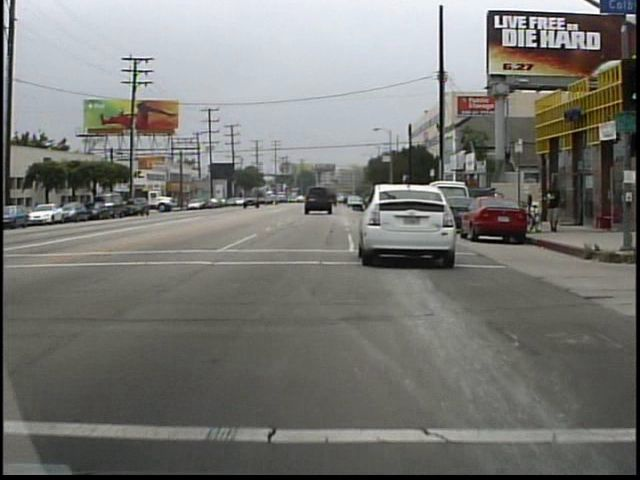person: (542, 176, 565, 237)
